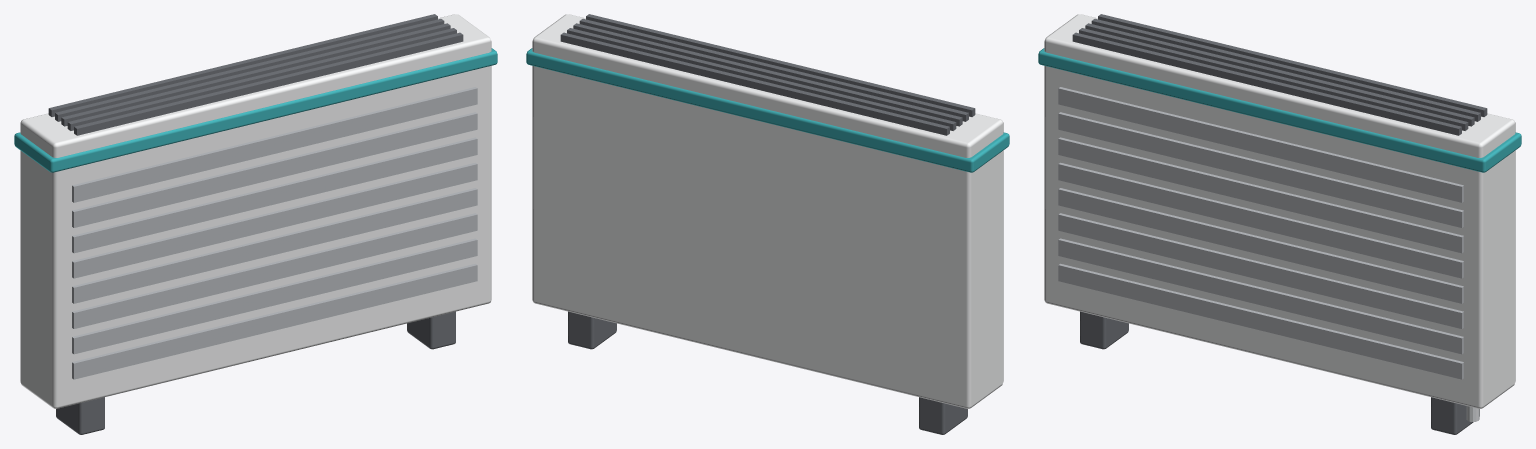
File: radiator.glb
3 views of the same model, side by side, from view 1: azimuth 30°, elevation 25°; view 2: azimuth 150°, elevation 25°; view 3: azimuth 330°, elevation 25° (orthographic).
Parts seen in each view (by area): view 1: radiator; view 2: radiator; view 3: radiator.
Boxes of the visible parts, x1,y1,x2,y2 form: radiator: (14, 14, 497, 434); radiator: (526, 14, 1009, 434); radiator: (1038, 14, 1521, 434).
Bounding box in the file's own units: 1.02 × 0.675 × 0.153.
